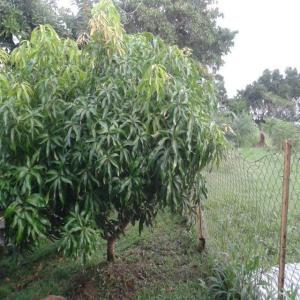Tree: (1, 2, 227, 279)
